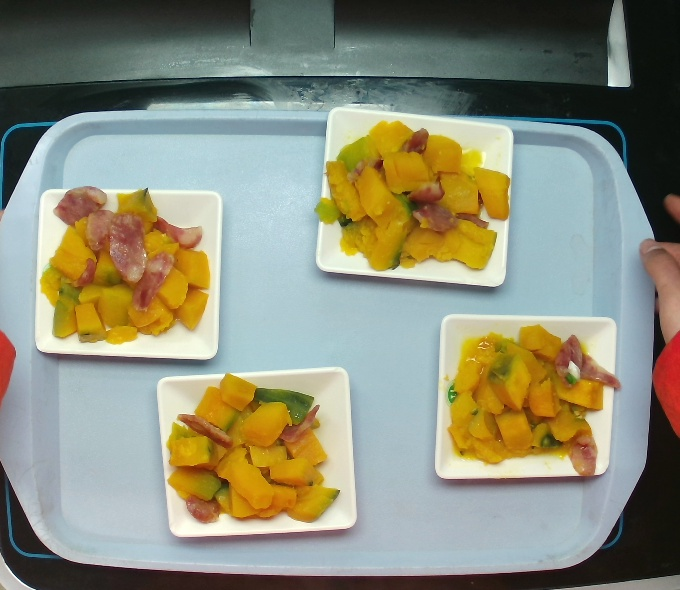wcq-NanGuaChaoXiangChang: (315, 113, 511, 286), (165, 356, 340, 544), (41, 174, 211, 354), (447, 319, 611, 485)
